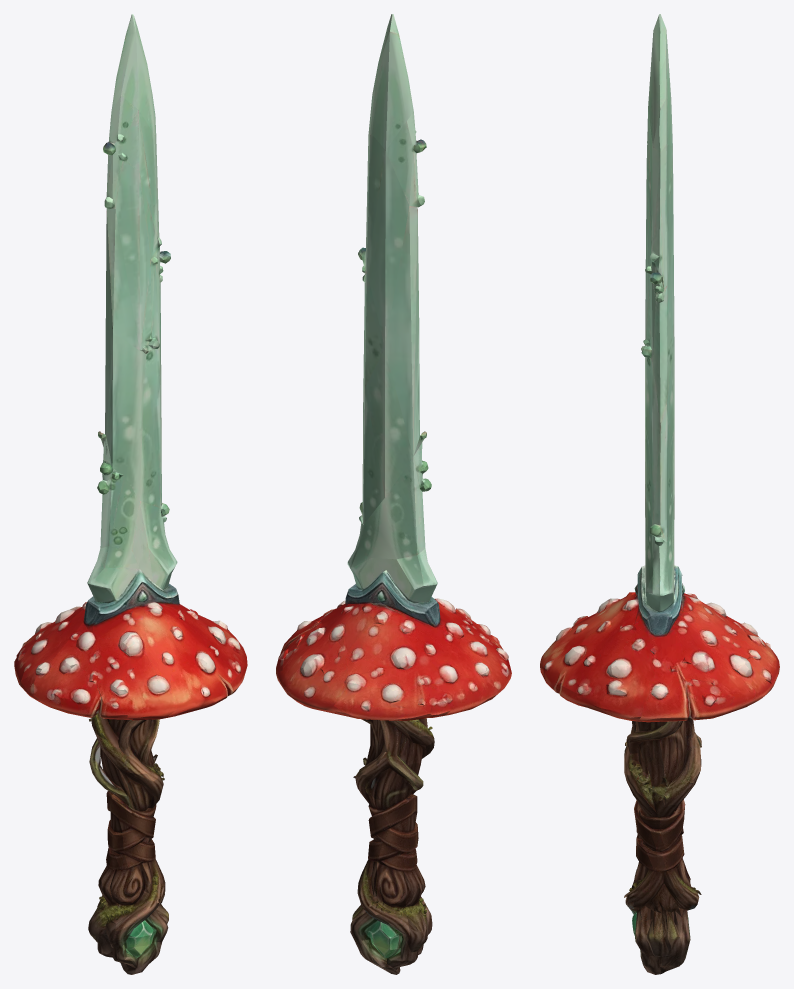
File: epee_champi.glb
The picture shows the model from 3 angles, left to right: view 1: azimuth 30°, elevation 25°; view 2: azimuth 150°, elevation 25°; view 3: azimuth 270°, elevation 25°; orthographic projection.
Size of the model in its own units: 0.4318 by 1.9 by 0.4306.
1 material, 1 textured.
